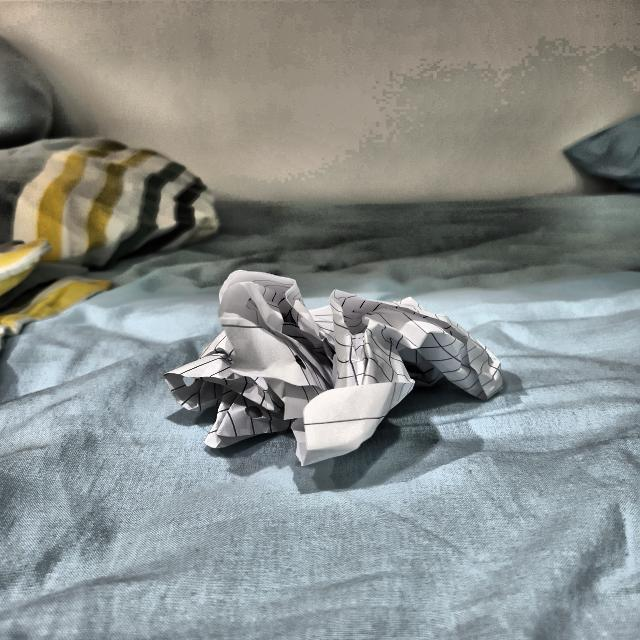Paper: (183, 260, 515, 458)
